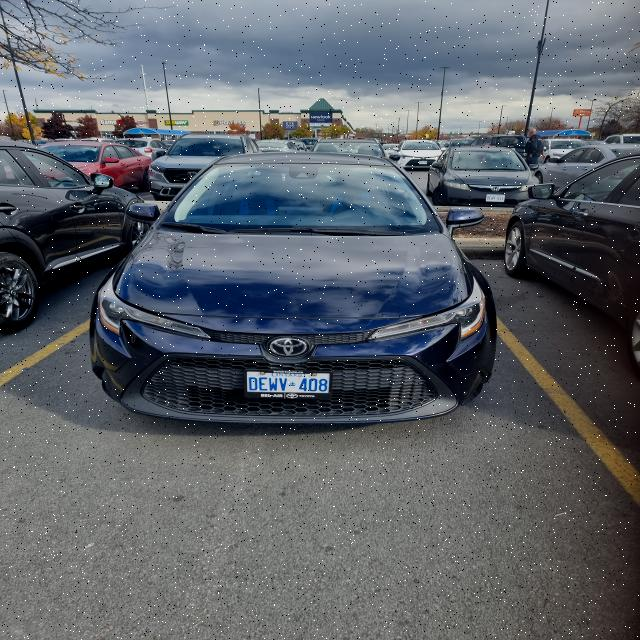plaque: (245, 371, 331, 399), (486, 195, 505, 202), (419, 161, 429, 164)
